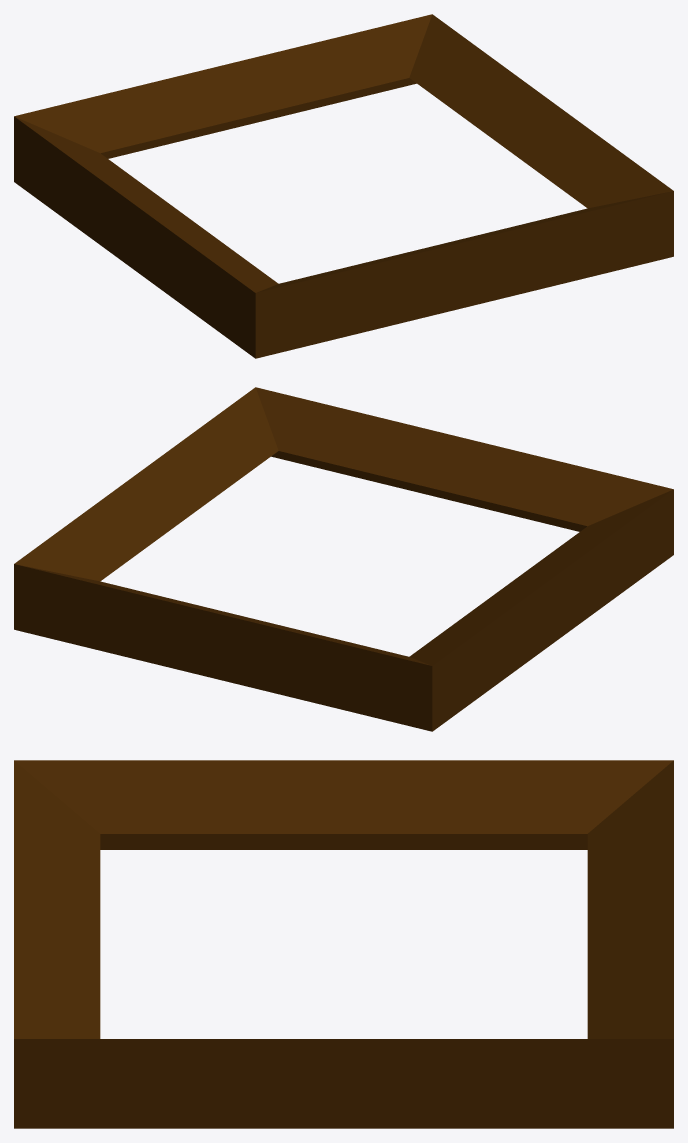
File: frame.fbx
The picture shows the model from 3 angles, top to bottom: view 1: azimuth 30°, elevation 25°; view 2: azimuth 150°, elevation 25°; view 3: azimuth 270°, elevation 25°; orthographic projection. The views are drawn at different scales.
Visible parts, largest first — view 1: Cube; view 2: Cube; view 3: Cube.
Boxes of the visible parts, x1=… form: Cube: x1=14, y1=14, x2=673, y2=358; Cube: x1=14, y1=387, x2=673, y2=731; Cube: x1=14, y1=760, x2=673, y2=1128.
Size of what is drawn, in the model's own units: 400 by 60 by 400.
